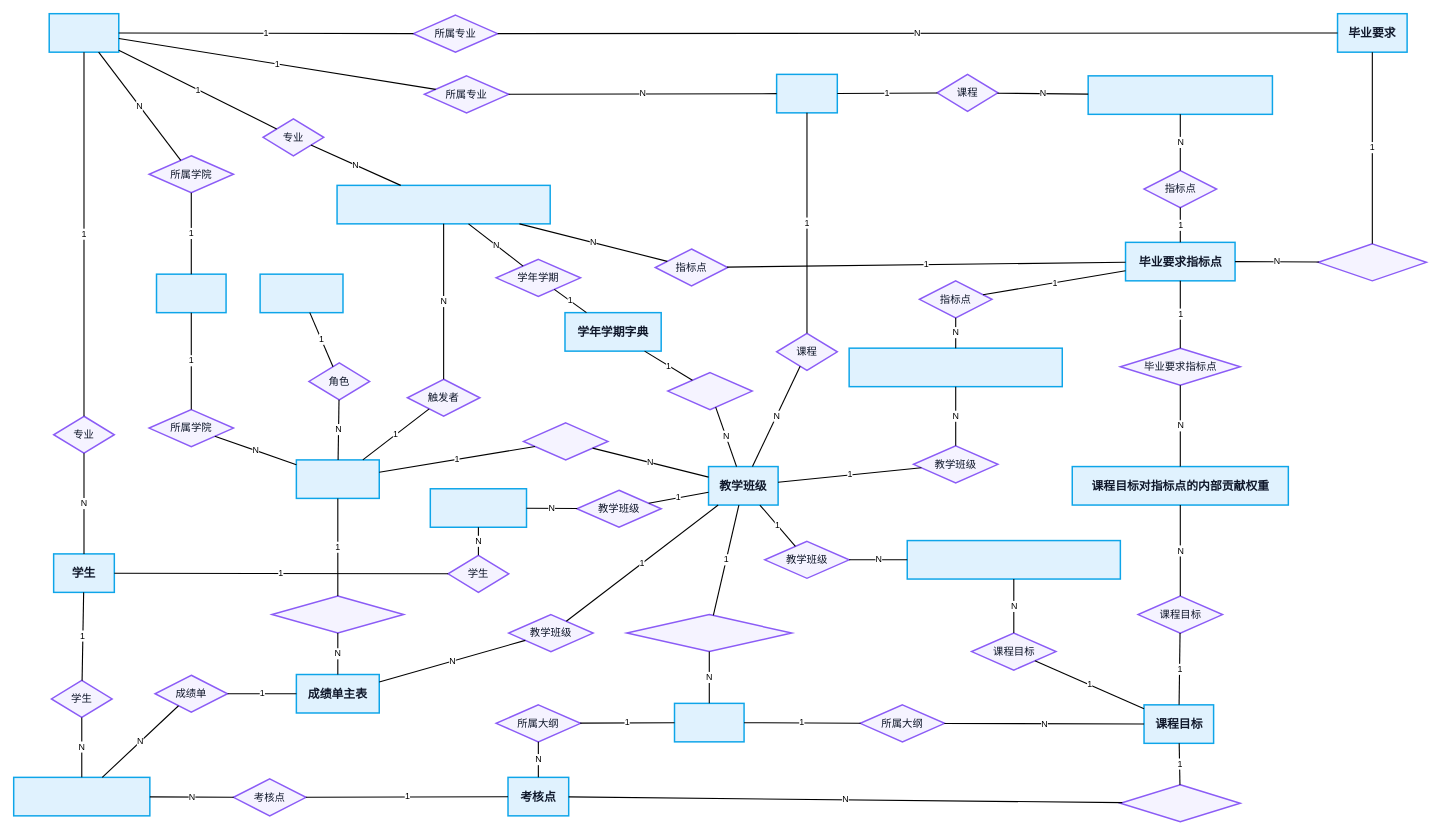
The diagram is 1439 pixels wide and 835 high, and some of its shapes have lost their labels. Here are the shapes that lost their labels. From the top down, the box of each, then its label:
(48, 13, 119, 53): 专业字典
(776, 73, 838, 113): 课程库
(1087, 75, 1273, 115): 宏观支撑矩阵 (含权重W_c)
(336, 184, 551, 224): 专业级达成度 (第三级计算结果)
(1317, 243, 1427, 281): 所属毕业要求
(155, 273, 226, 313): 学院字典
(259, 273, 343, 313): 系统角色表
(848, 347, 1063, 387): 课程级达成度 (第二级计算结果)
(667, 371, 753, 410): 开课学期
(522, 422, 608, 460): 主讲教师
(295, 459, 380, 499): 系统用户表
(429, 488, 527, 528): 班级学生关联
(906, 539, 1121, 579): 目标级达成度 (第一级计算结果)
(271, 595, 404, 633): 执行锁定的操作人
(626, 613, 792, 652): 所属教学班级 (一对一)
(673, 702, 744, 742): 课程大纲
(13, 776, 150, 816): 学生考核点成绩明细
(1119, 784, 1241, 822): 绑定的课程目标
